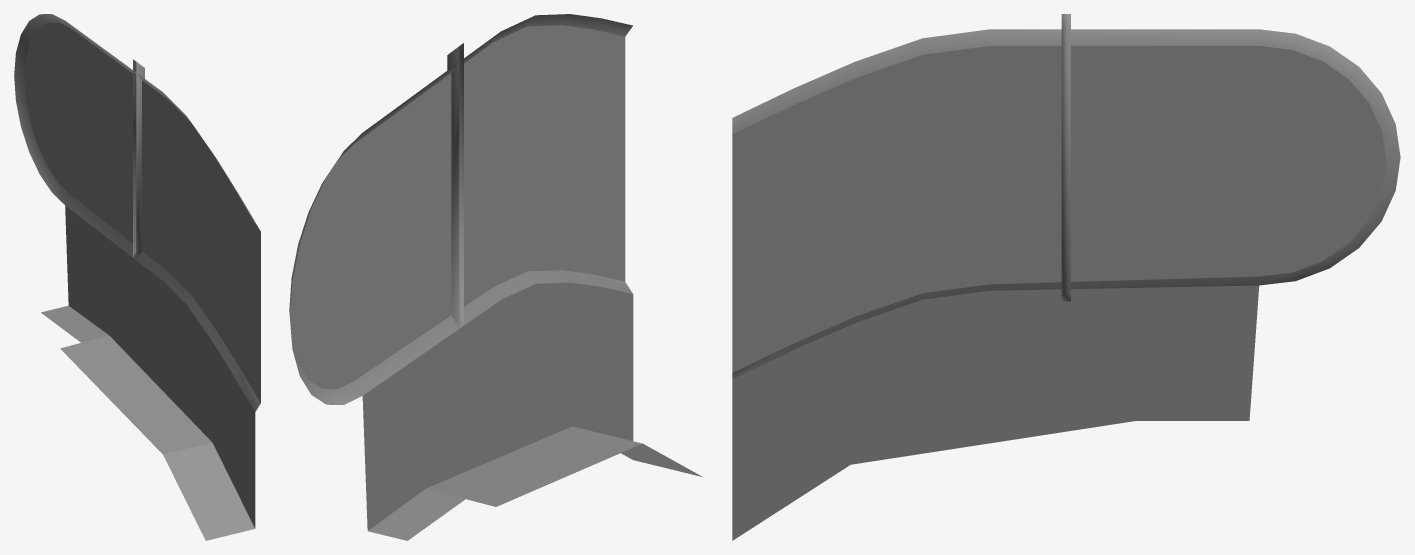
File: SW_ENV_Escalator_TopSteps_Connector_Endcap.fbx
The picture shows the model from 3 angles, left to right: view 1: azimuth 30°, elevation 25°; view 2: azimuth 150°, elevation 25°; view 3: azimuth 270°, elevation 25°; orthographic projection. The views are drawn at different scales.
Visible parts, largest first — view 1: SW_ENV_Escalator_TopSteps_Connector_Endcap; view 2: SW_ENV_Escalator_TopSteps_Connector_Endcap; view 3: SW_ENV_Escalator_TopSteps_Connector_Endcap.
Part boxes in pixels (x1,y1,x2,y2): SW_ENV_Escalator_TopSteps_Connector_Endcap: (14, 14, 260, 540); SW_ENV_Escalator_TopSteps_Connector_Endcap: (289, 14, 702, 540); SW_ENV_Escalator_TopSteps_Connector_Endcap: (732, 14, 1400, 540).
Bounding box in the file's own units: 0.2063 × 1.29 × 1.49.
